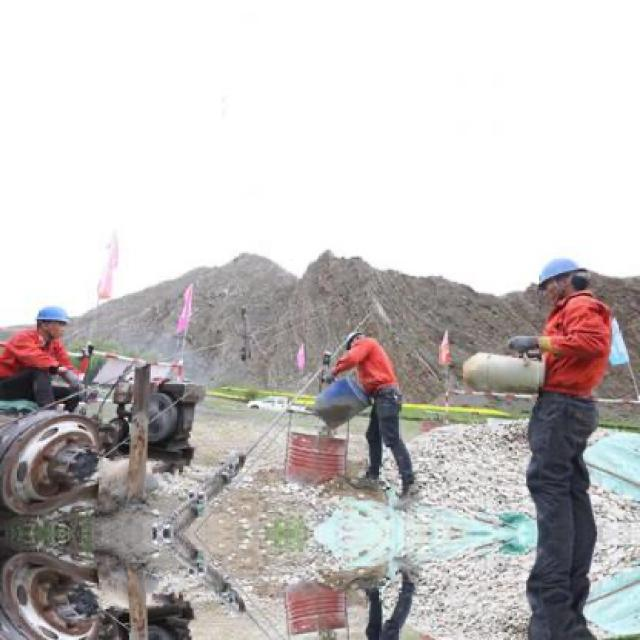helmet: (532, 248, 588, 307), (31, 301, 75, 341), (342, 328, 364, 354)
